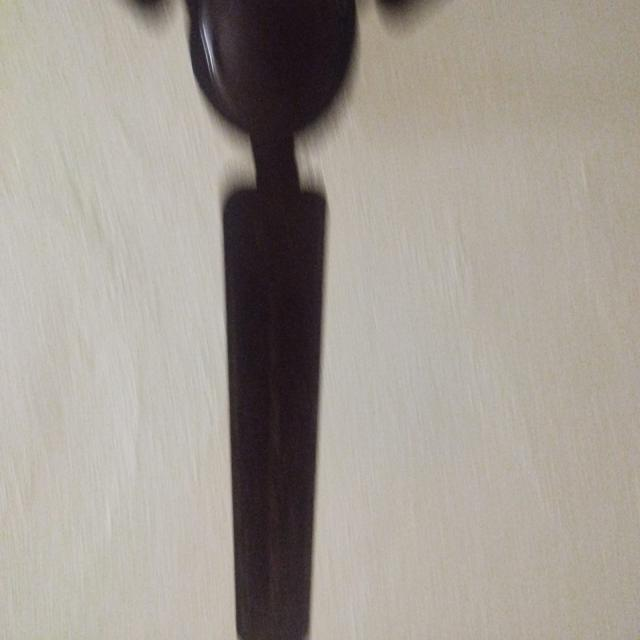fan_off: (118, 0, 447, 640)
